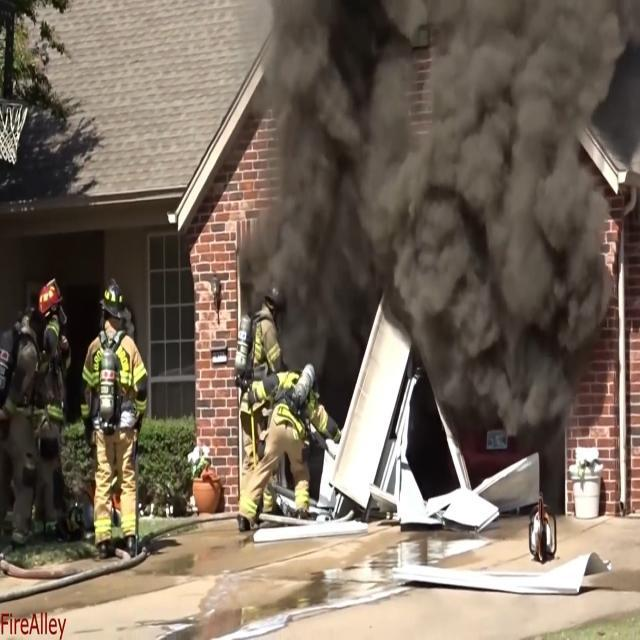Smoke: (273, 2, 589, 374)
